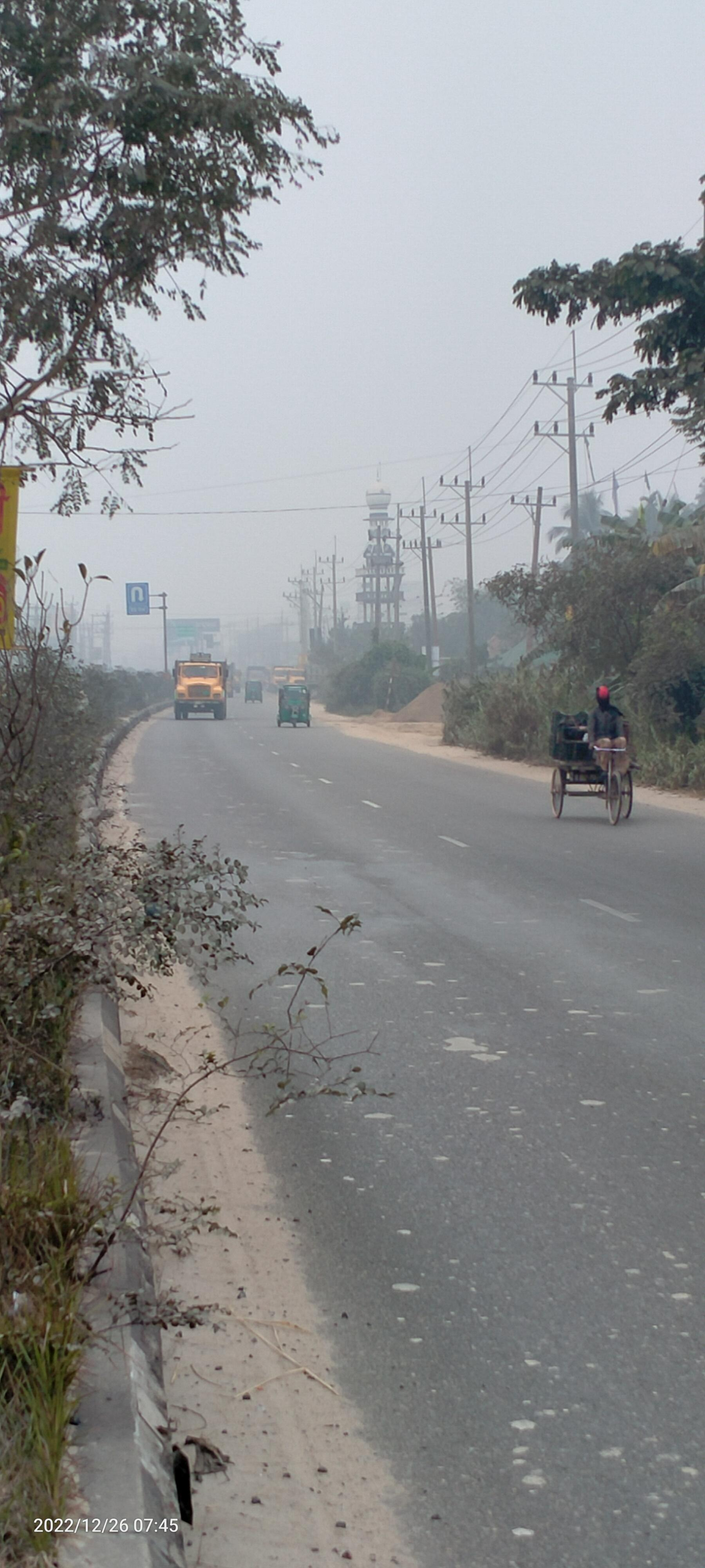Truck: (165, 648, 233, 720)
